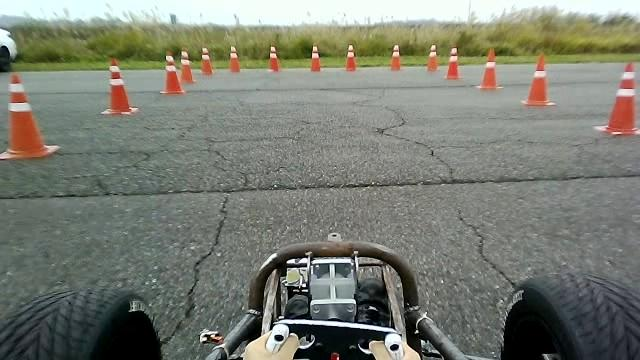red cone: (0, 73, 60, 159), (593, 62, 639, 134), (100, 58, 138, 115), (520, 51, 556, 106), (475, 47, 503, 90), (159, 53, 186, 94), (443, 46, 463, 79), (179, 49, 196, 83), (426, 44, 439, 71), (200, 47, 212, 75), (268, 44, 279, 72), (345, 44, 356, 71), (229, 46, 240, 73), (390, 44, 401, 70), (310, 43, 320, 71)
